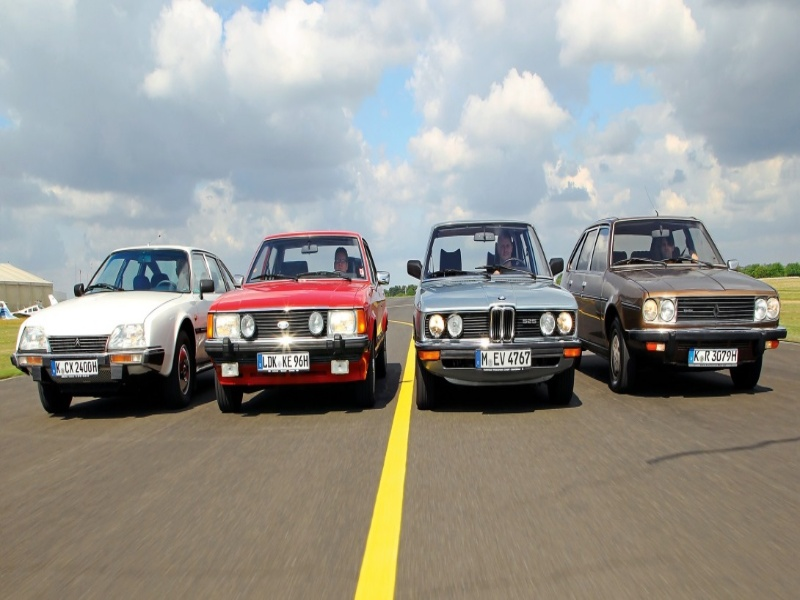car: (562, 215, 788, 391), (11, 246, 235, 414), (204, 230, 389, 411), (407, 220, 581, 397)
person: (495, 232, 514, 266), (657, 235, 676, 258), (334, 247, 349, 274)
plate: (475, 348, 531, 372), (255, 351, 311, 373), (687, 347, 738, 368), (48, 359, 98, 378)
